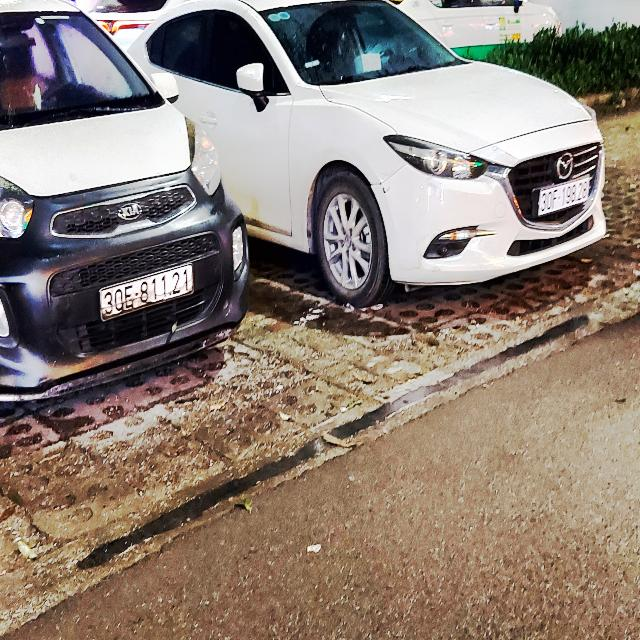license_plate: (99, 257, 197, 325), (538, 174, 592, 220)
